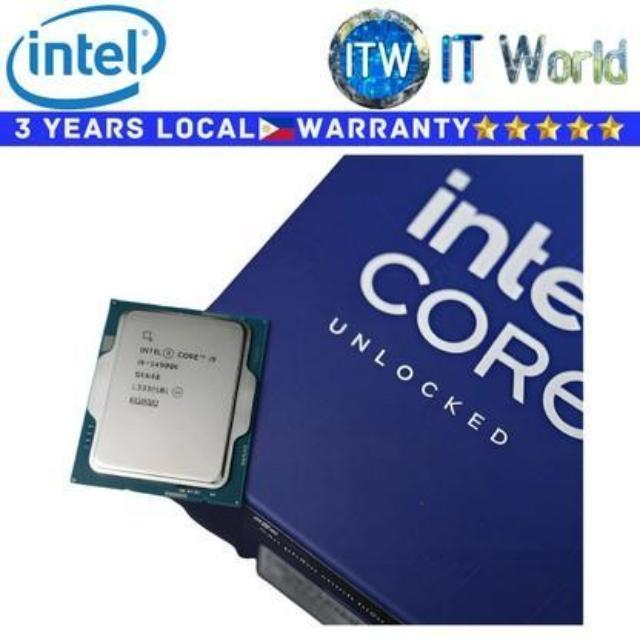CPU: (78, 293, 252, 507)
